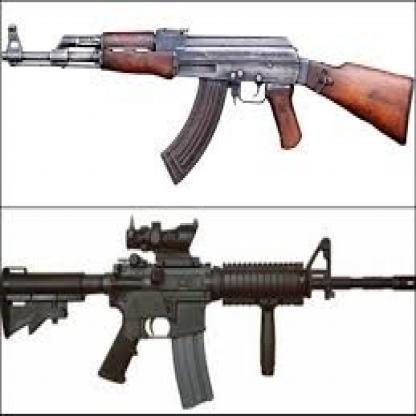Gun: (5, 17, 410, 180)
